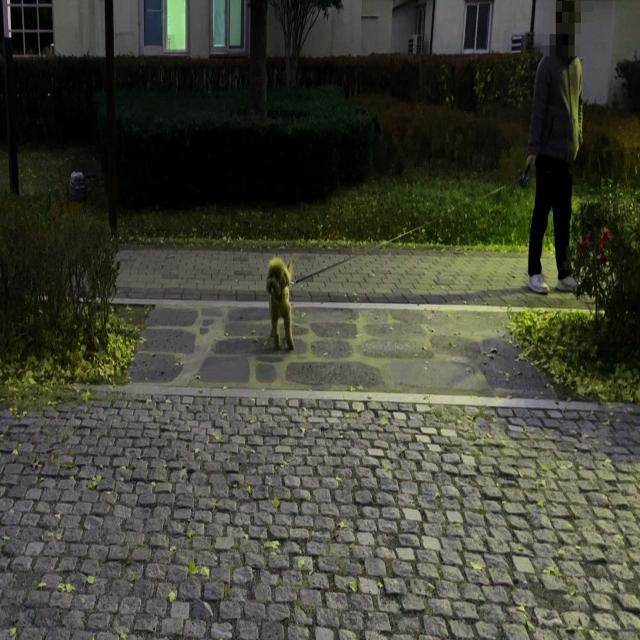Leashed_Dog: (266, 151, 580, 350)
